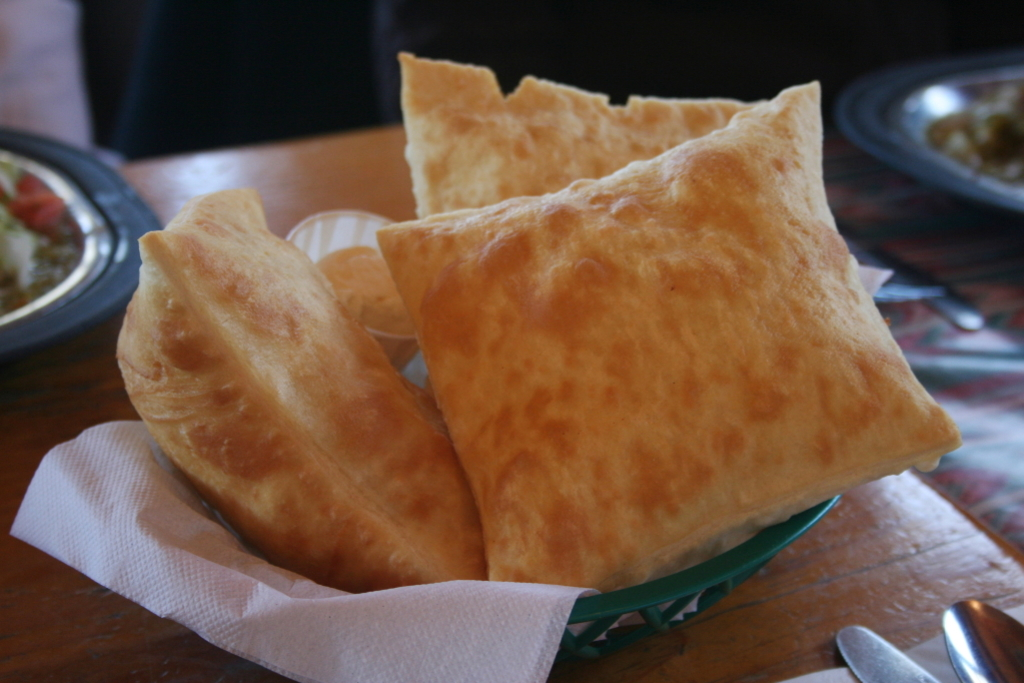person: (0, 0, 96, 151)
